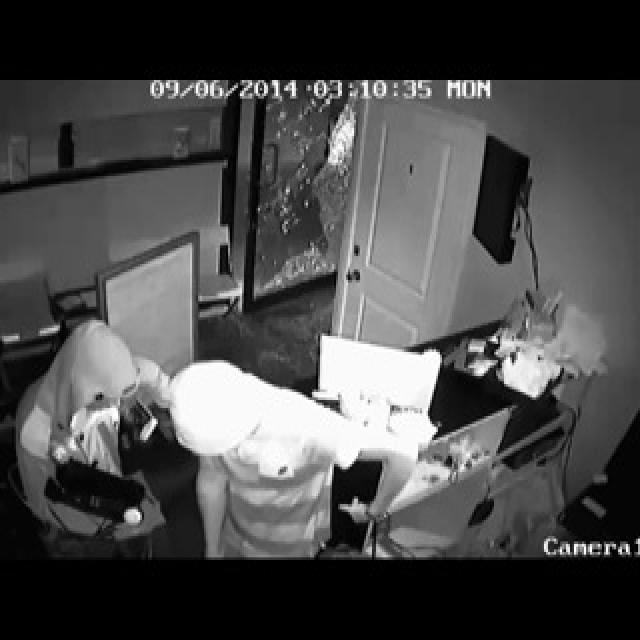thief: (16, 322, 414, 560)
